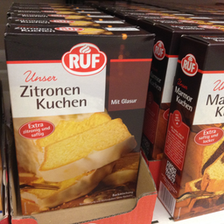cake: (6, 28, 156, 217), (159, 29, 224, 220)
